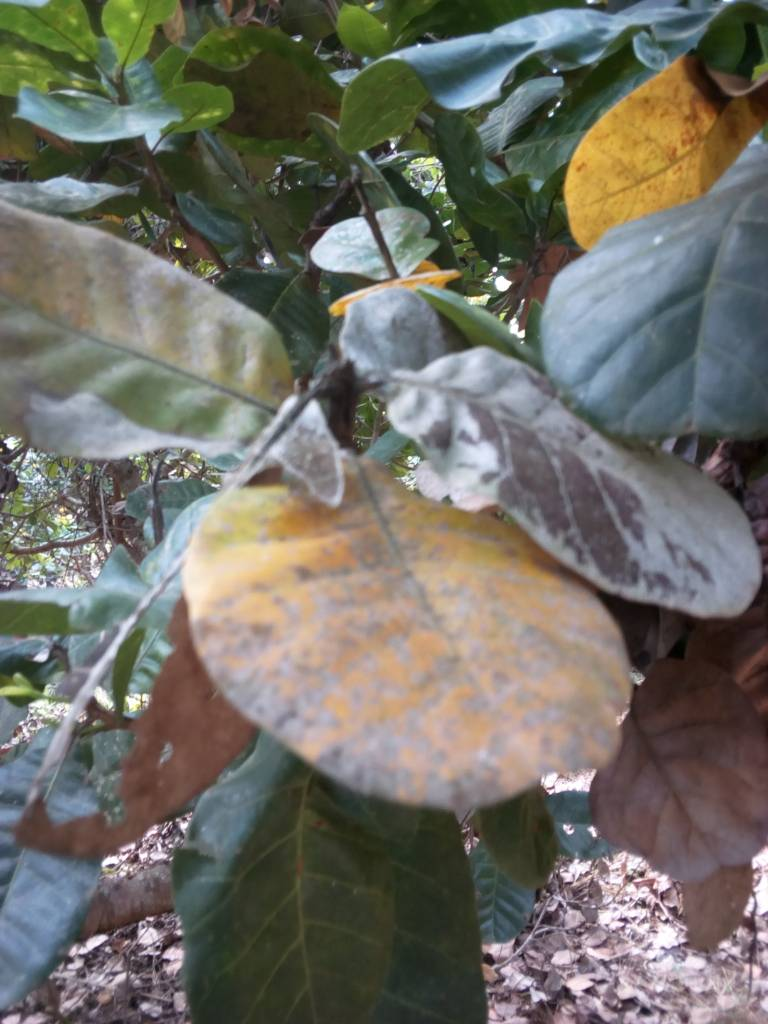Anthracnose: (190, 466, 636, 805), (371, 341, 760, 616), (1, 225, 305, 472)
